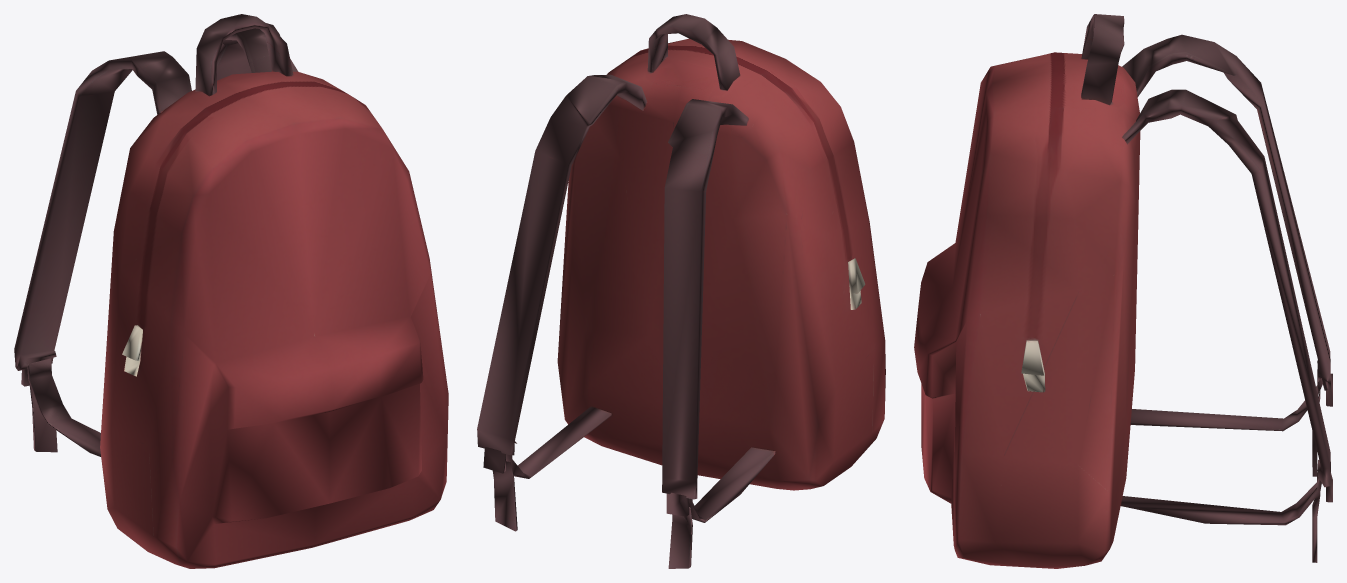
The model's file is backpack.fbx.
3 renders of one model, left to right at view 1: azimuth 30°, elevation 25°; view 2: azimuth 150°, elevation 25°; view 3: azimuth 270°, elevation 25°, orthographic. The views are drawn at different scales.
Visible parts, largest first — view 1: Mesh_0; view 2: Mesh_0; view 3: Mesh_0.
Boxes of the visible parts, x1,y1,x2,y2 form: Mesh_0: (14,14,448,568); Mesh_0: (477,14,885,568); Mesh_0: (914,14,1332,568).
Bounding box in the file's own units: 60.79 × 95.31 × 72.66.
1 material, 1 textured.
